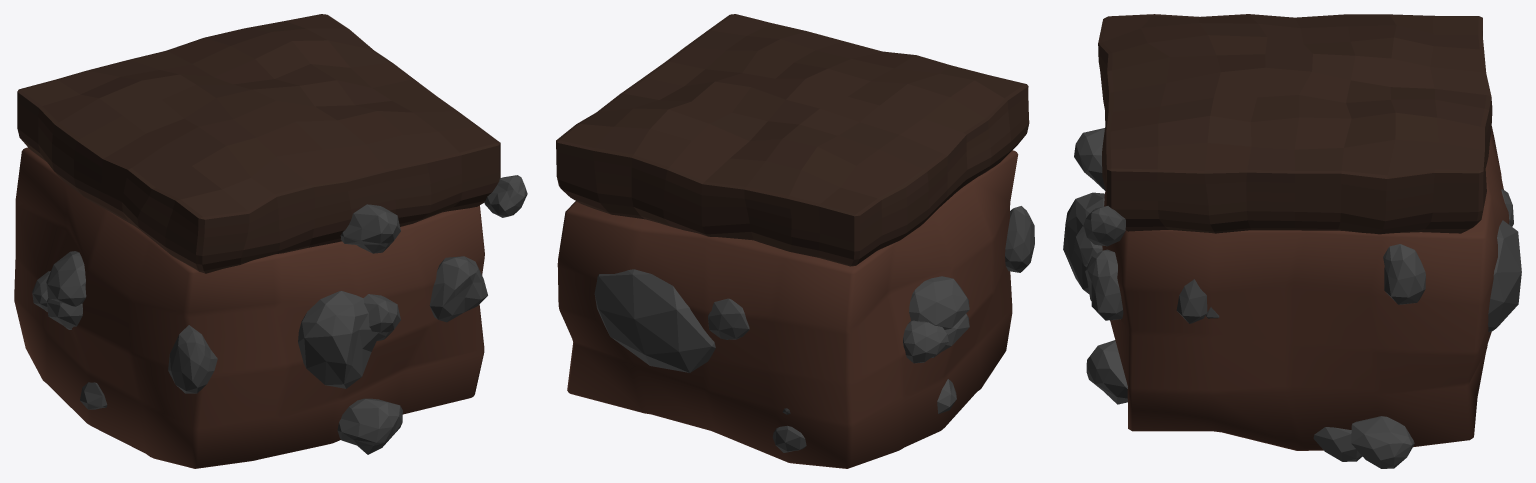
Rendered from SmallGroundBlock.fbx.
3 renders of one model, left to right at view 1: azimuth 30°, elevation 25°; view 2: azimuth 150°, elevation 25°; view 3: azimuth 270°, elevation 25°, orthographic. The views are drawn at different scales.
Parts seen in each view (by area): view 1: SmallGroundBlock; view 2: SmallGroundBlock; view 3: SmallGroundBlock.
Boxes of the visible parts, box(x1,y1,x2,y2) form: SmallGroundBlock: box(14, 14, 527, 468); SmallGroundBlock: box(556, 14, 1034, 468); SmallGroundBlock: box(1063, 14, 1521, 468).
Bounding box in the file's own units: 3.13 × 2.65 × 3.28.
